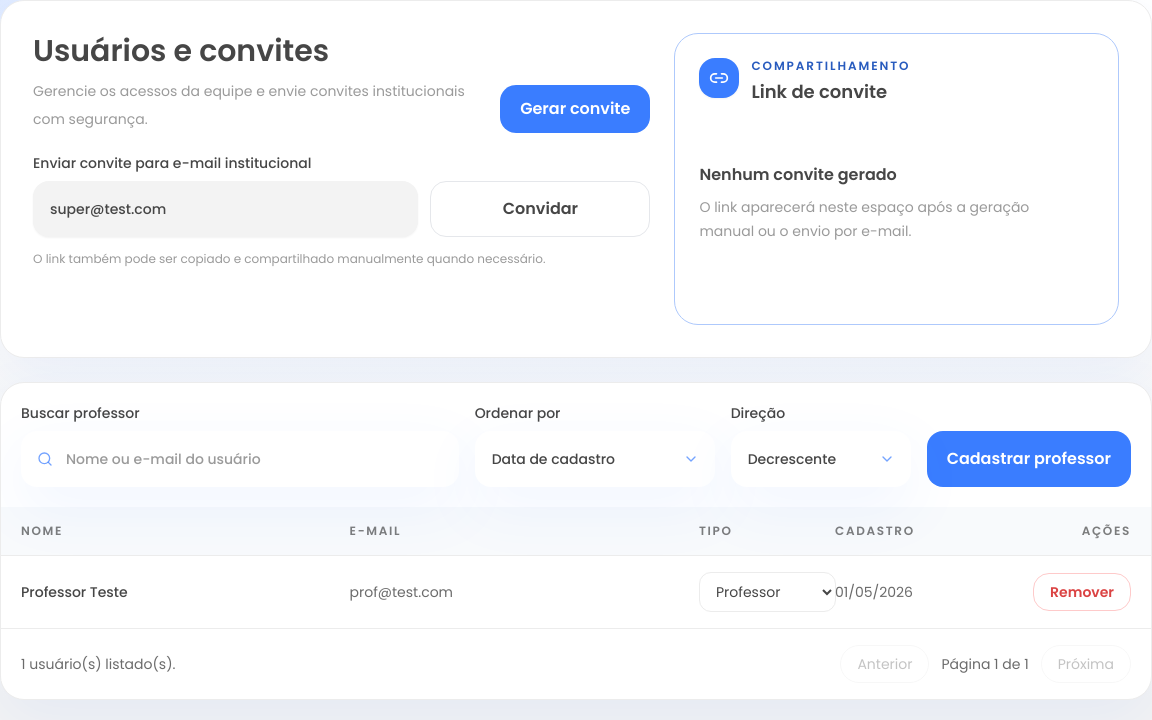
UsersPage › deve listar usuários e gerar convite
Check: the text "Professor Teste" is shown, box x1=21 y1=582 x2=128 y2=602
Check: the text "Nenhum convite gerado" is shown, box x1=699 y1=163 x2=897 y2=186
What coordinates should you click on to do the following:
click the button "Gerar convite"
I would click on:
 (575, 109)
Its box is x1=500 y1=85 x2=650 y2=133.
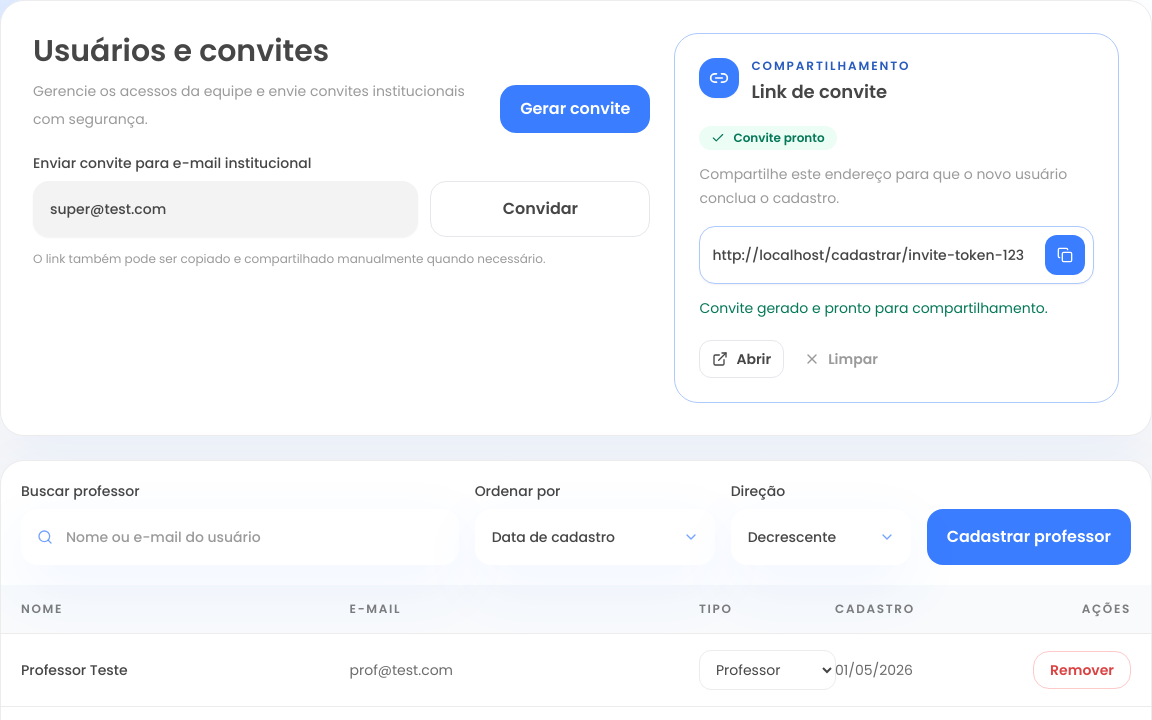
Check: the text "Convite pronto" is shown, box x1=699 y1=126 x2=836 y2=150
